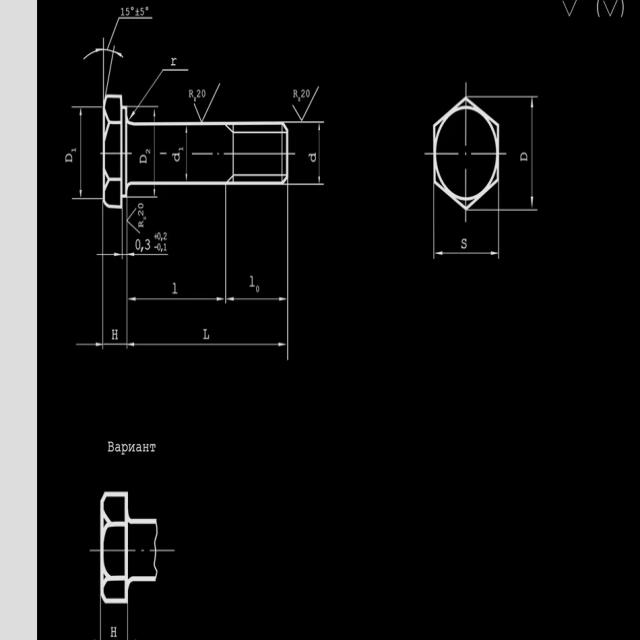marking_line: (83, 43, 131, 99), (128, 339, 286, 349), (528, 100, 536, 209), (129, 295, 224, 303), (78, 110, 85, 199), (434, 249, 497, 258), (227, 294, 286, 302), (128, 250, 168, 258), (317, 125, 322, 183), (96, 252, 120, 259), (75, 341, 102, 347)
numeric: (136, 202, 150, 233), (120, 4, 153, 17), (289, 87, 314, 102), (132, 236, 155, 251), (187, 86, 208, 100), (166, 55, 183, 68), (155, 239, 170, 251), (155, 231, 170, 243)
special_symbol: (130, 65, 192, 119), (105, 12, 161, 45), (289, 84, 325, 124), (194, 84, 226, 120), (125, 207, 140, 234)
